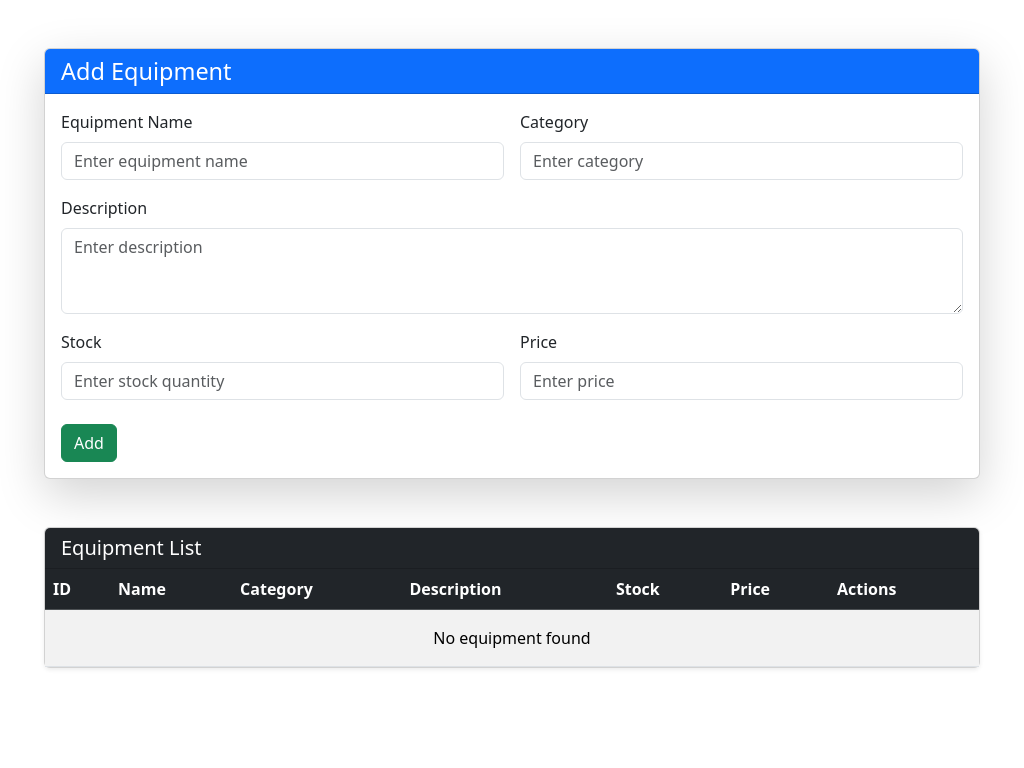
Scenario: EquipmentForm › 1. shows validation errors on empty submit
Click the button "Add".
click(89, 443)  # box x1=61 y1=424 x2=117 y2=462
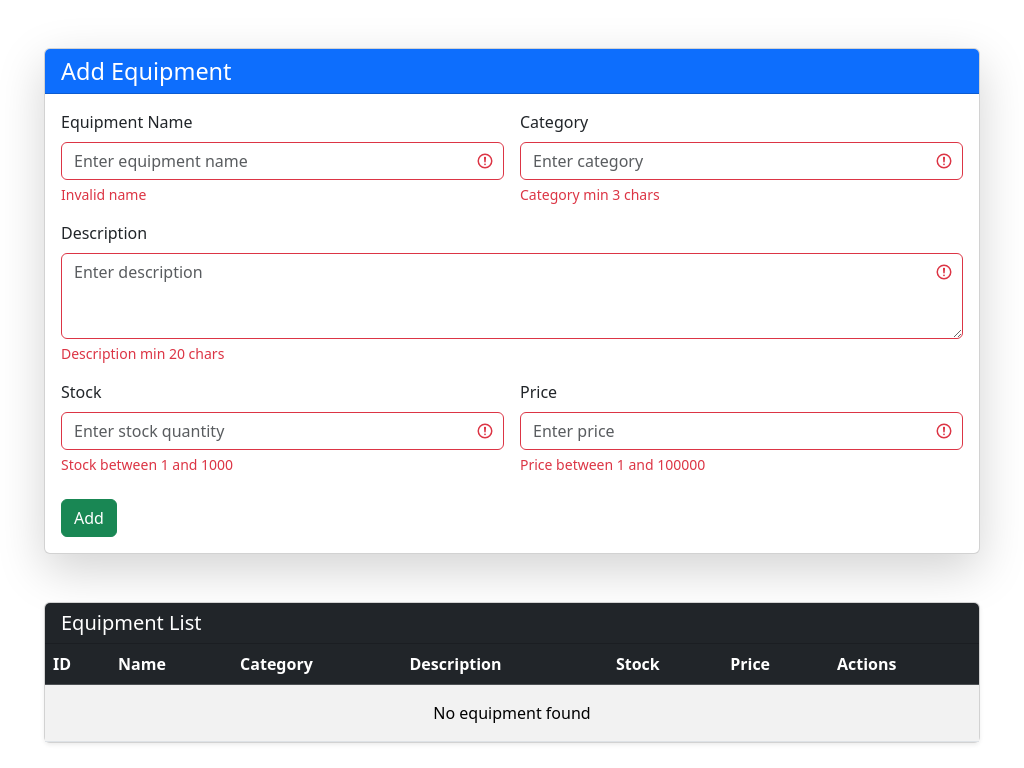
expect the text "Invalid name" is shown: met, box x1=61 y1=185 x2=146 y2=204
expect the text "Category min 3 chars" is shown: met, box x1=520 y1=185 x2=660 y2=204
expect the text "Description min 20 chars" is shown: met, box x1=61 y1=344 x2=224 y2=363
